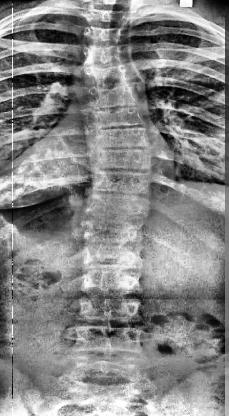Vertebrae: (67, 348, 149, 386), (70, 318, 146, 356), (74, 290, 150, 322), (80, 214, 150, 246), (80, 264, 146, 296), (88, 168, 156, 198), (80, 242, 148, 271), (87, 100, 148, 132), (86, 191, 152, 220), (80, 81, 140, 111), (88, 125, 152, 153), (91, 147, 155, 175), (81, 59, 132, 89), (80, 40, 124, 68), (80, 22, 126, 44)
